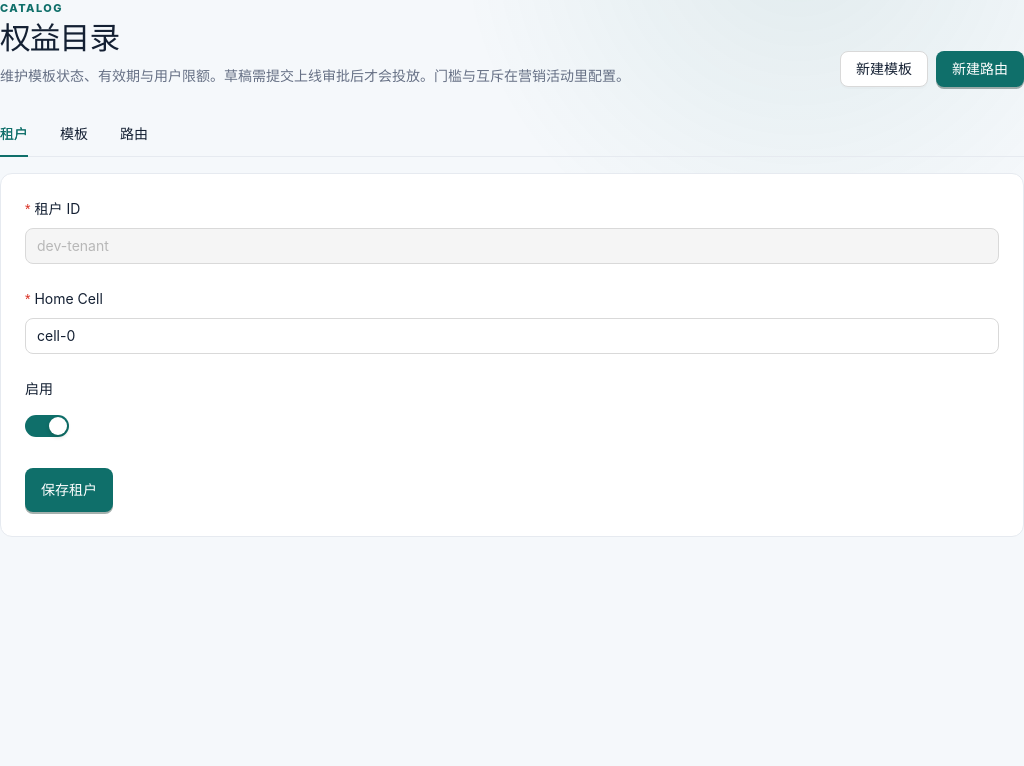
it: CatalogPage › keeps pending templates read-only and shows instance-not-created copy without origin
What coordinates should you click on to do the following:
click the tab "模板"
I would click on:
 (74, 134)
Its box is [60, 123, 88, 145].
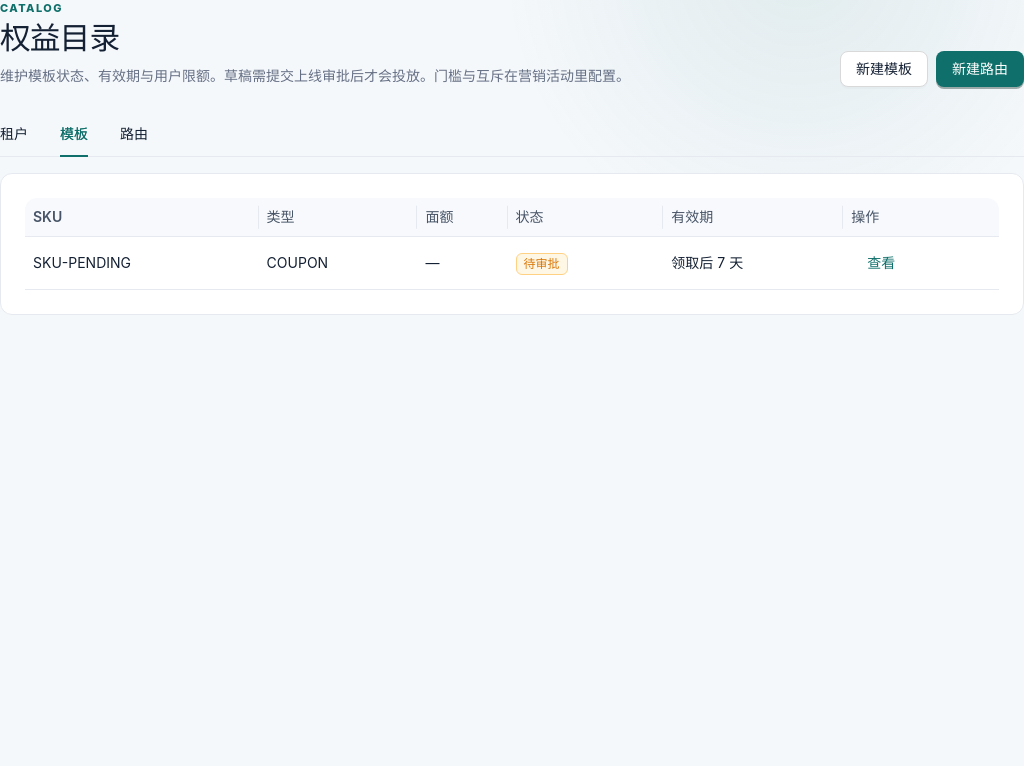
What coordinates should you click on to do the following:
click the button "查看"
I would click on:
 (881, 263)
Its box is [851, 245, 911, 281].
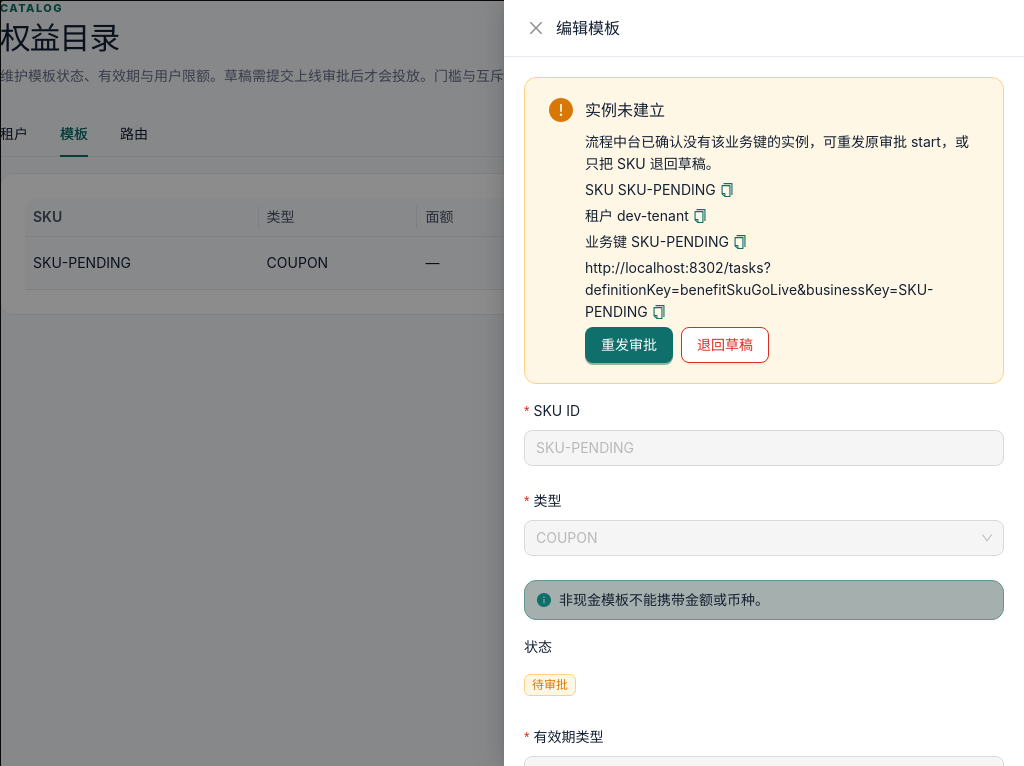
Check: the text "实例未建立" is shown, box [585, 100, 665, 120]
Check: the text "http://localhost:8302/tasks?definitionKey=benefitSkuGoLive&businessKey=SKU-PENDING" is shown, box [585, 259, 934, 320]
Check: the button "重发审批" is enabled, box [585, 327, 673, 363]
